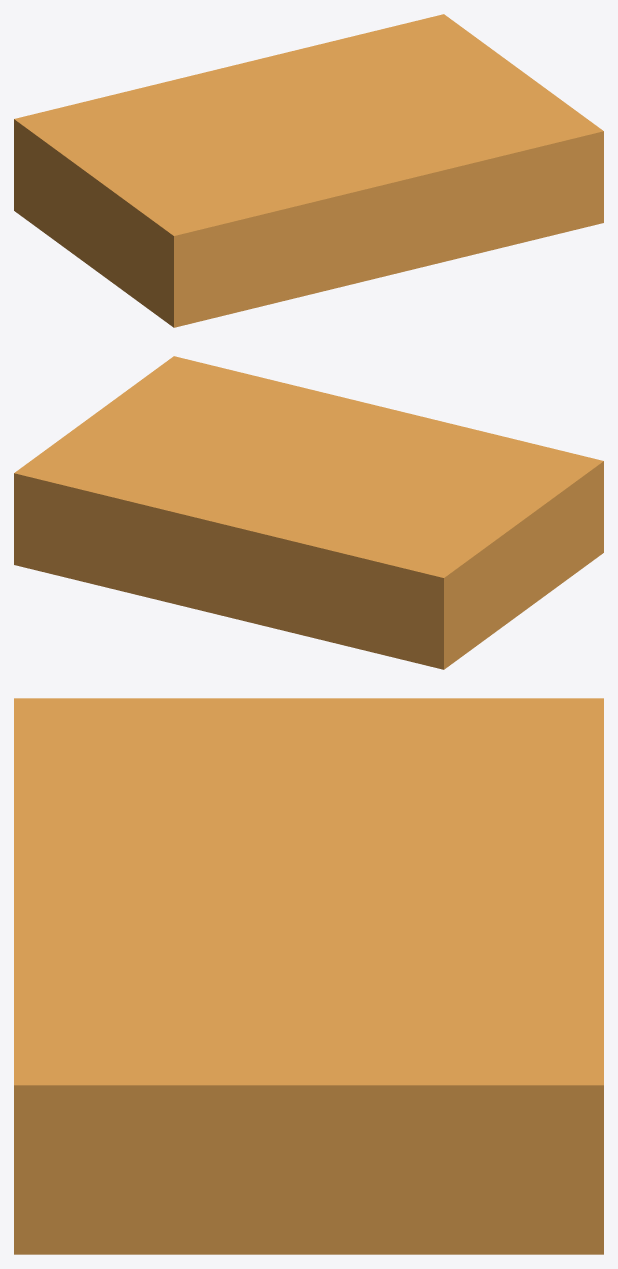
The model's file is muban_posun.FBX.
The picture shows the model from 3 angles, top to bottom: view 1: azimuth 30°, elevation 25°; view 2: azimuth 150°, elevation 25°; view 3: azimuth 270°, elevation 25°; orthographic projection. The views are drawn at different scales.
Visible parts, largest first — view 1: muban_posui_02, muban_posui_03, muban_posui_01, muban_posui_04; view 2: muban_posui_02, muban_posui_03, muban_posui_01, muban_posui_04; view 3: muban_posui_04, muban_posui_02, muban_posui_03, muban_posui_01.
Boxes of the visible parts, x1,y1,x2,y2 form: muban_posui_02: (75,63,403,303); muban_posui_03: (241,28,544,275); muban_posui_01: (14,104,281,327); muban_posui_04: (385,14,603,237); muban_posui_02: (214,405,542,645); muban_posui_03: (73,370,376,617); muban_posui_01: (336,446,603,669); muban_posui_04: (14,356,232,579); muban_posui_04: (14,1032,603,1254); muban_posui_02: (14,753,603,902); muban_posui_03: (14,902,603,1032); muban_posui_01: (14,698,603,753).
Size of the model in its own units: 95.16 by 19.4 by 61.32.
